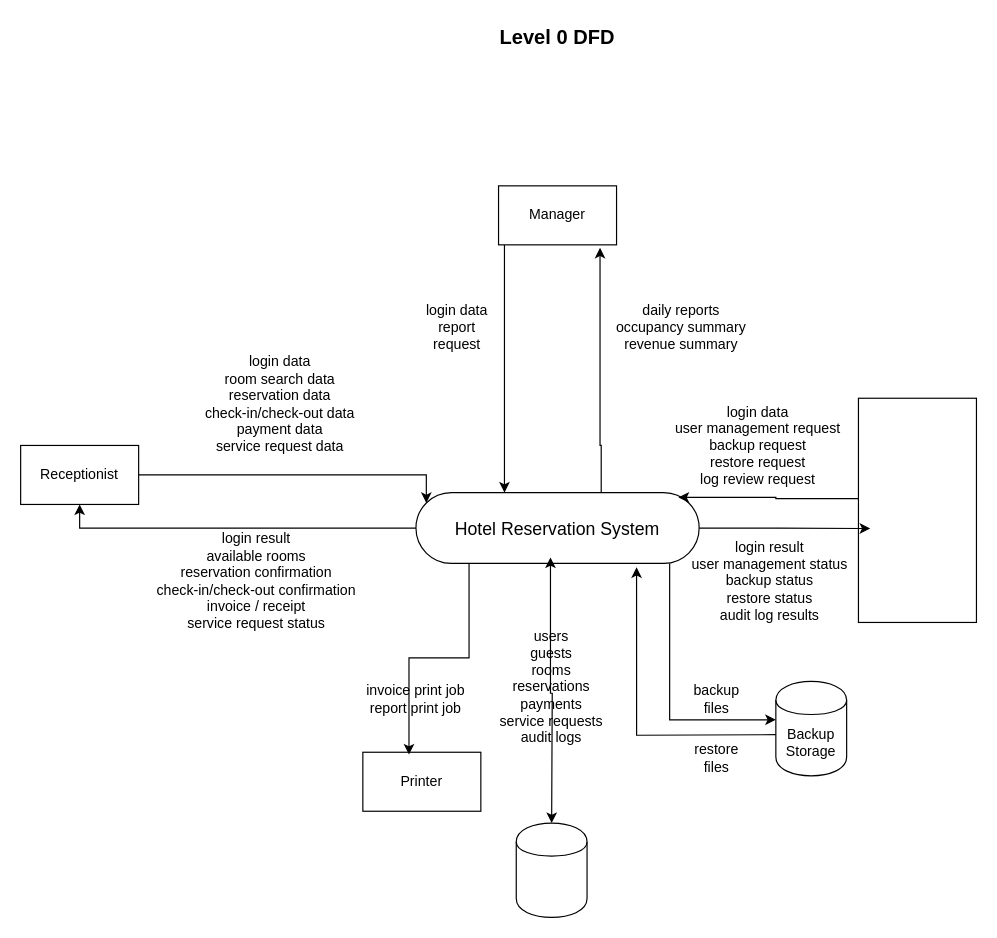
Some shapes in this 997 by 938 pixel diagram are drawn without their labels. Here are the shapes that lost their labels. From the top down, the centre of each, then its label:
(916,509): Admin
(551,869): Database
